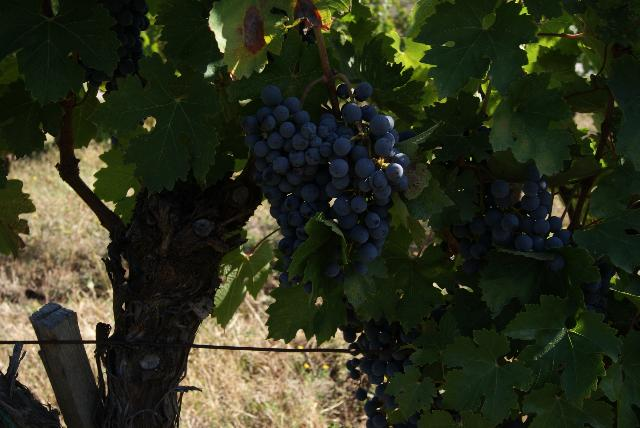grapes: (241, 85, 338, 270), (325, 102, 409, 275), (484, 165, 572, 252)
